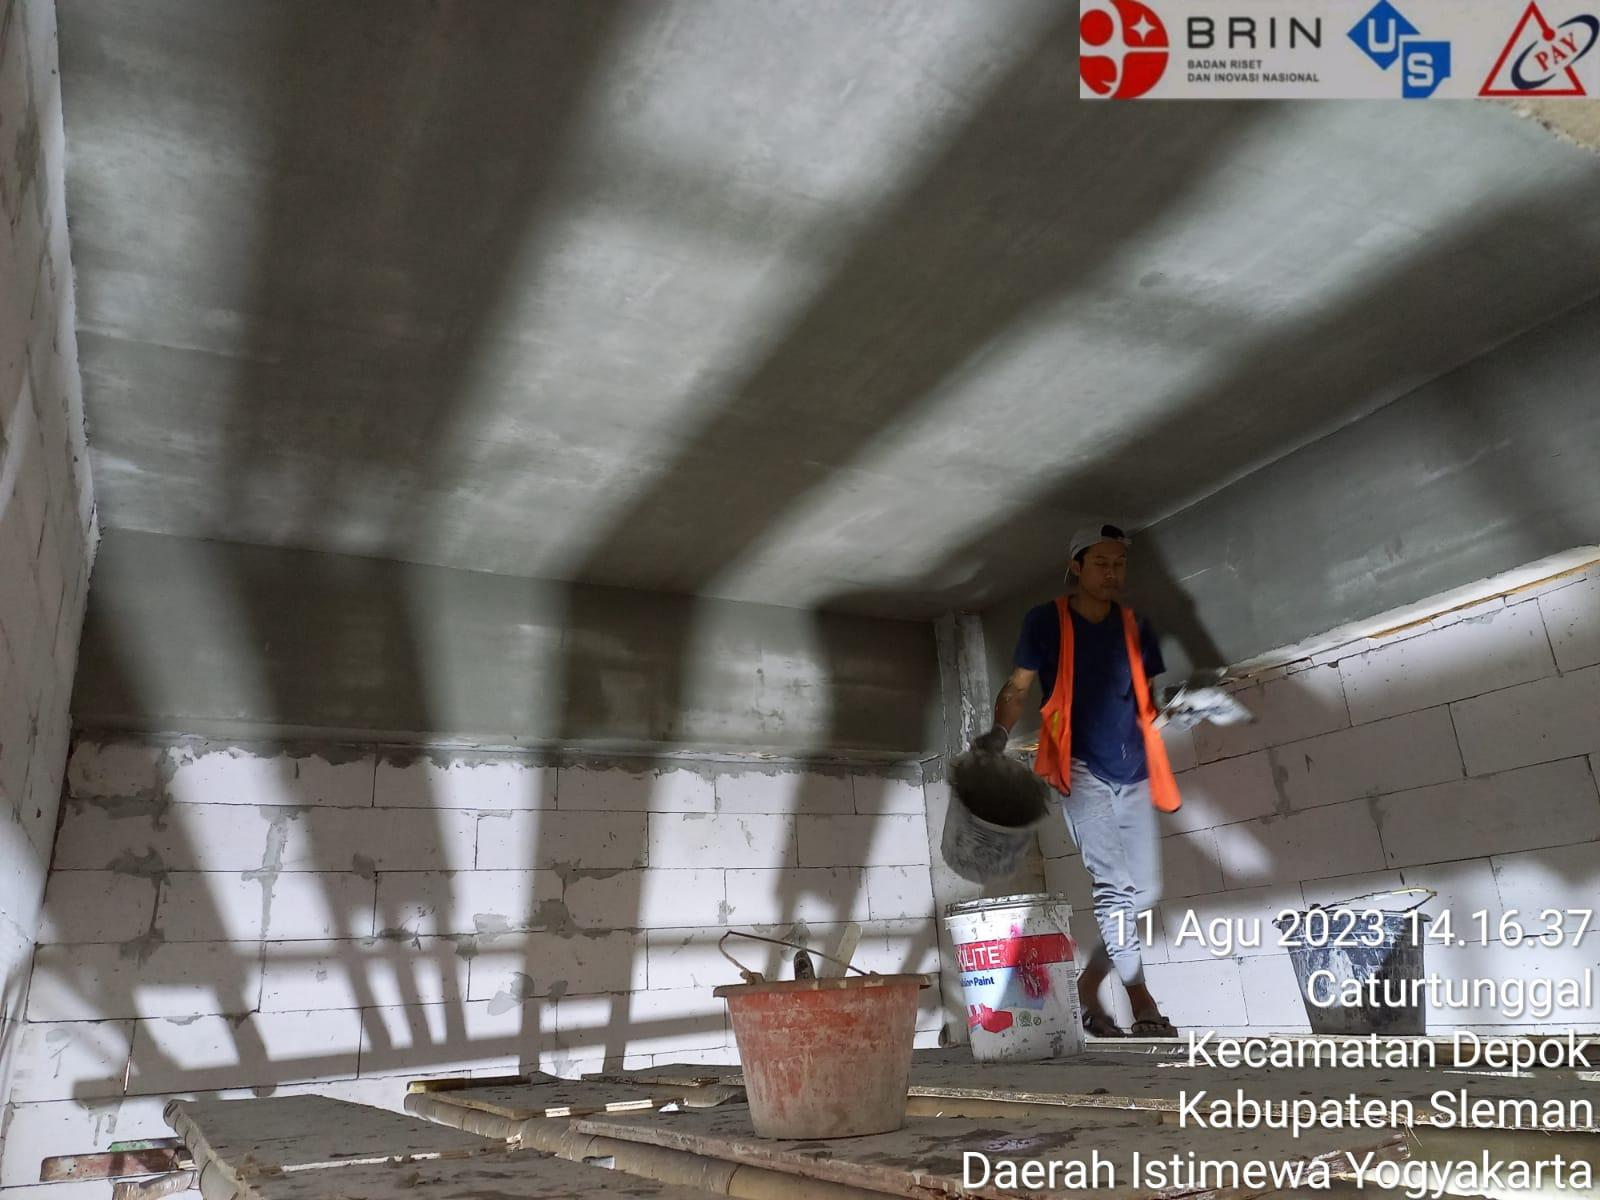no hat: (1054, 508, 1154, 628)
vest: (1010, 594, 1254, 808)
